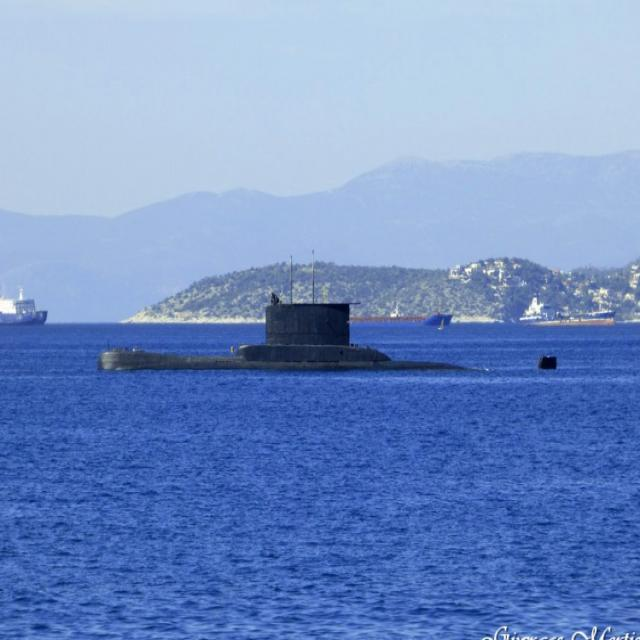submarine: (97, 251, 564, 375)
